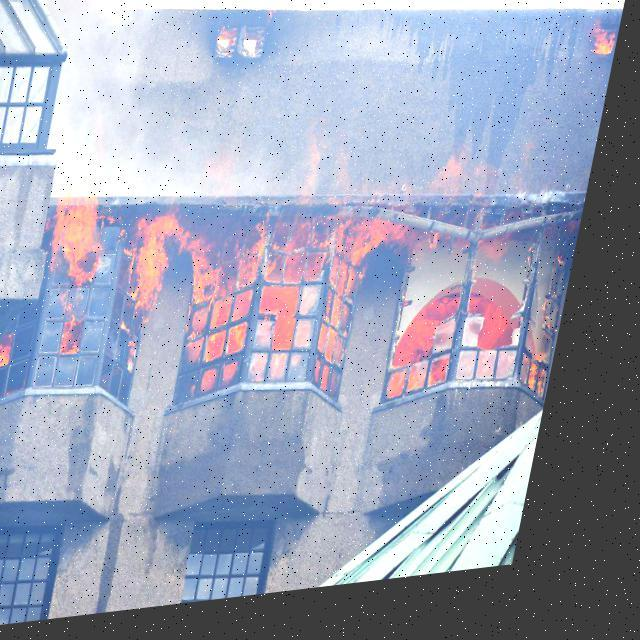Fire: (22, 150, 606, 440)
